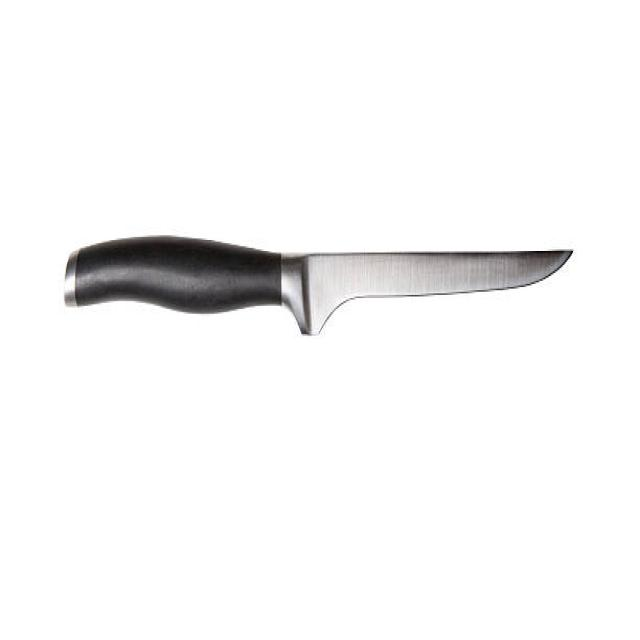knife: (57, 232, 577, 334)
